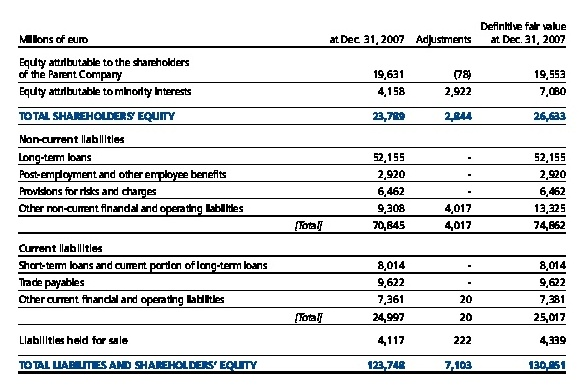table: (0, 0, 584, 387)
